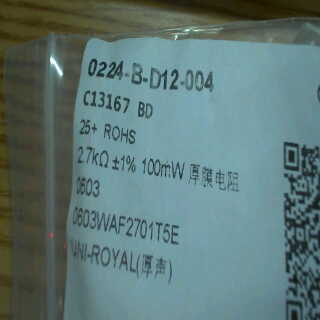2.7kR: (73, 142, 111, 172)
